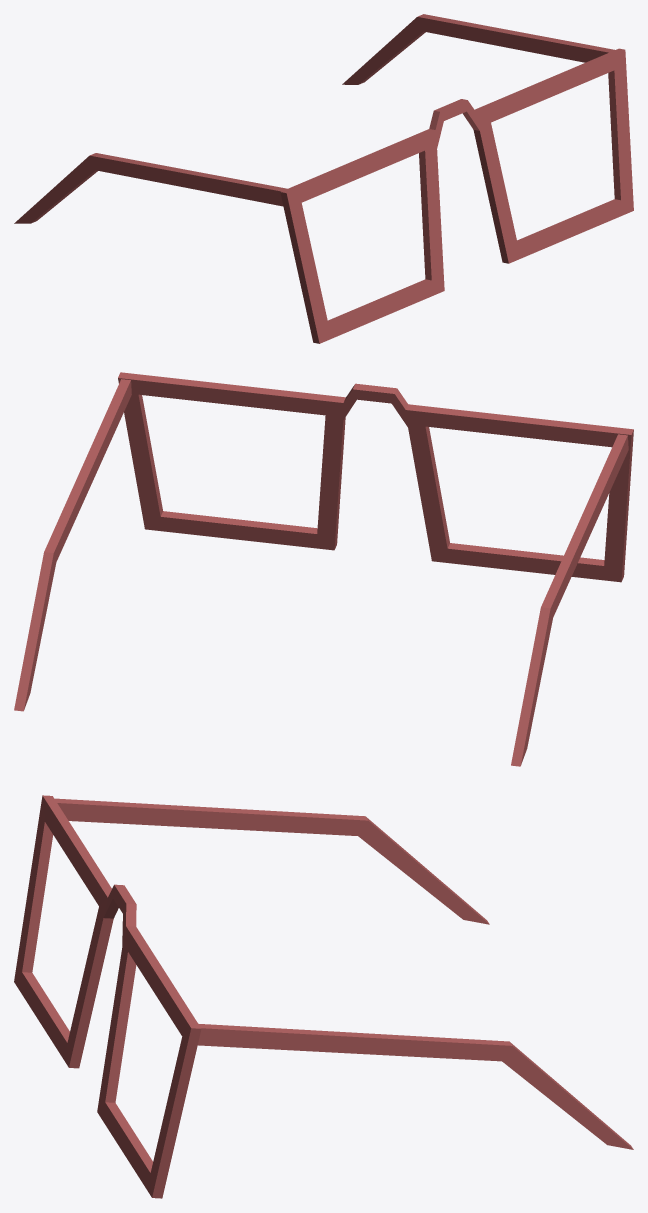
File: Bedroom_Glasses.fbx
3 renders of one model, top to bottom at view 1: azimuth 30°, elevation 25°; view 2: azimuth 150°, elevation 25°; view 3: azimuth 270°, elevation 25°, orthographic. The views are drawn at different scales.
Parts seen in each view (by area): view 1: Bedroom_Glasses; view 2: Bedroom_Glasses; view 3: Bedroom_Glasses.
Boxes of the visible parts, x1,y1,x2,y2 form: Bedroom_Glasses: (14,14,633,343); Bedroom_Glasses: (14,372,633,766); Bedroom_Glasses: (14,795,633,1198).
Size of the model in its own units: 21.44 by 6.88 by 19.96.
